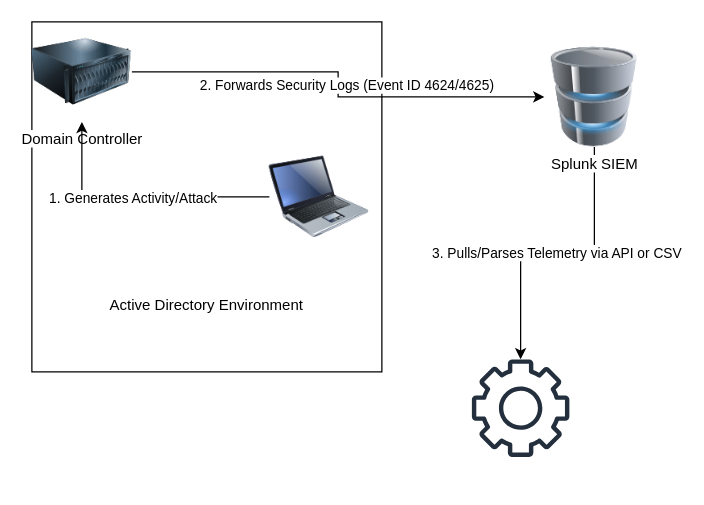
Some shapes in this 704 by 505 pixel diagram are drawn without their labels. The centre of each missing label's shape, as x and y in pixels:
"Python Automation Tool" goes at (520,407).
"Windows Client" goes at (319,196).
